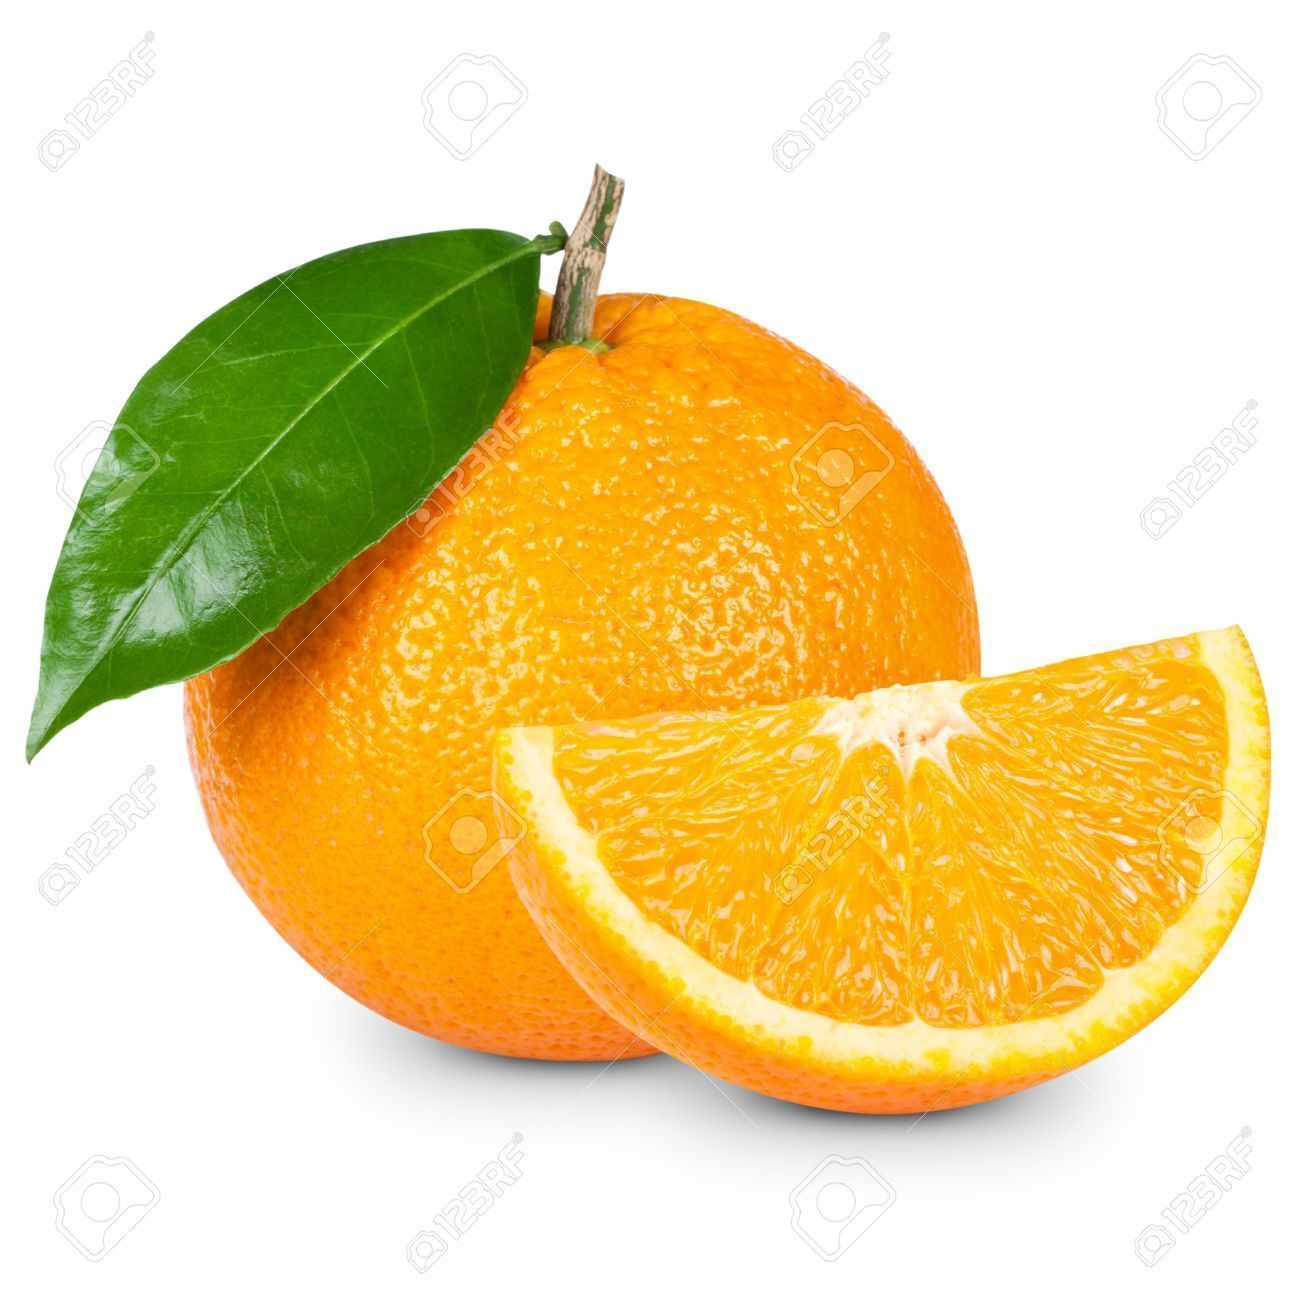orange: (143, 279, 1005, 1082)
